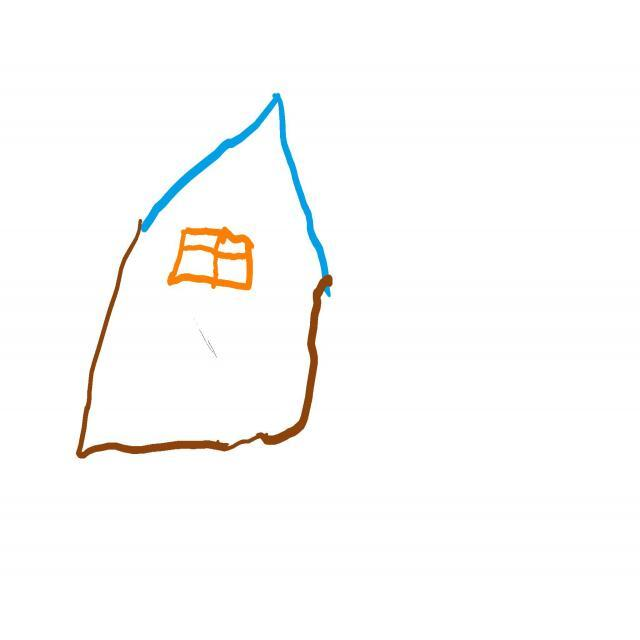house: (76, 93, 333, 459)
wall: (75, 112, 327, 459)
window: (168, 227, 254, 290)
